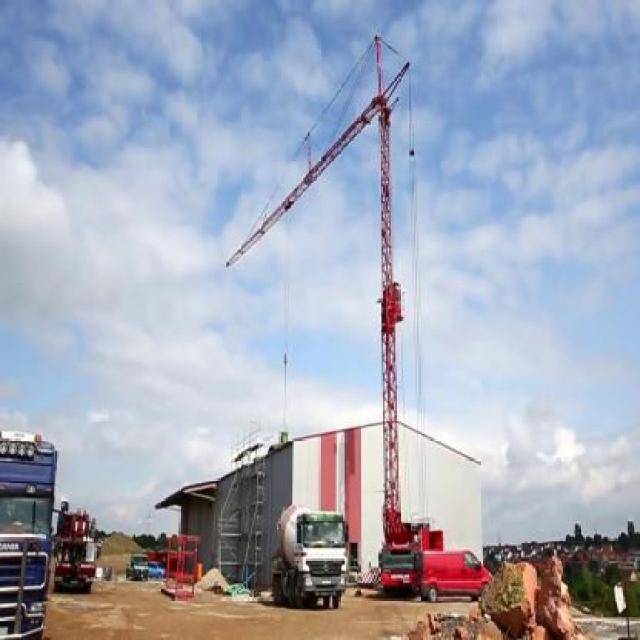Mobile Crane: (223, 35, 440, 593)
